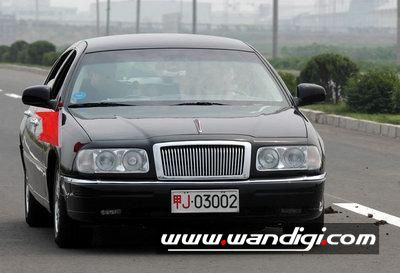plate_number: (170, 190, 239, 214)
